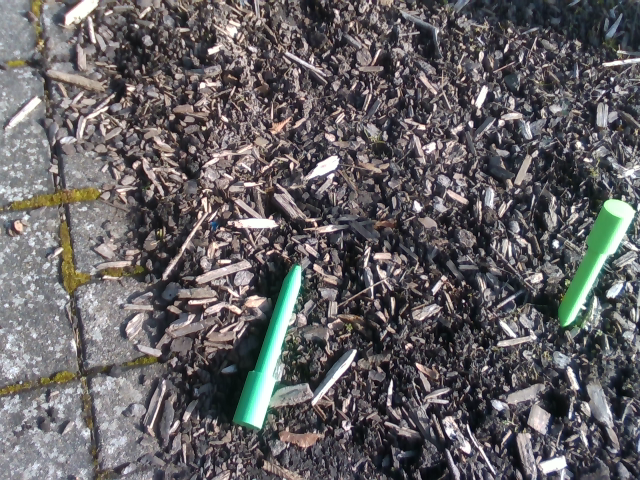Probe: (228, 243, 309, 441), (551, 192, 639, 336)
